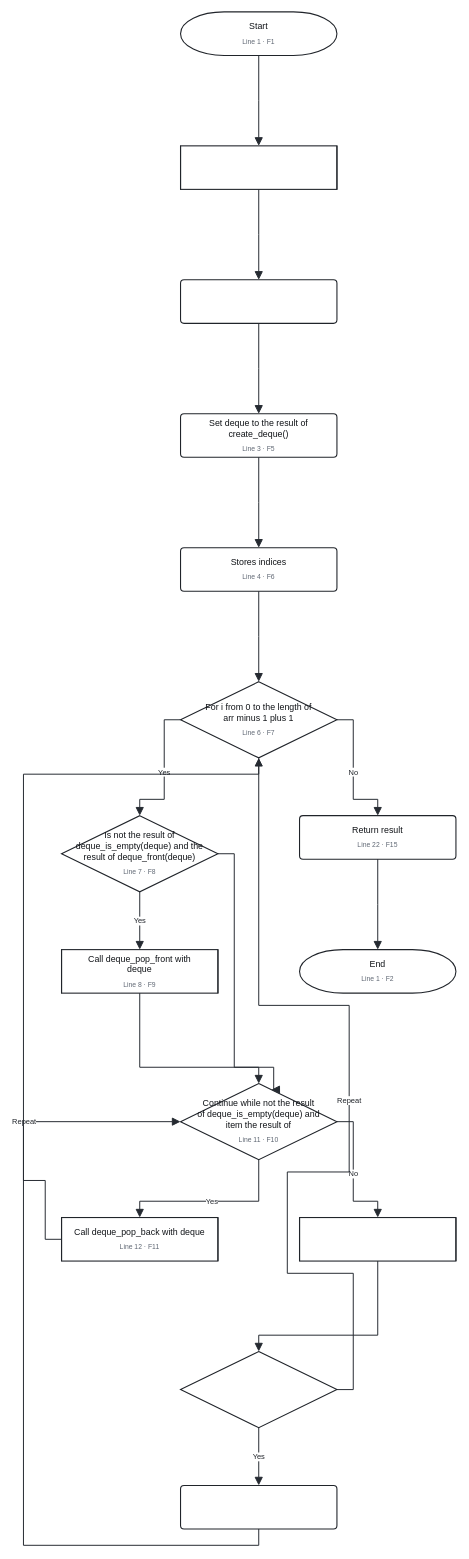
Some shapes in this 469 by 1559 pixel diagram are drawn without their labels. Each missing label, with the box of its shape:
Append item the result of deque_front(deque) of arr to result Line 18 · F14: (180, 1485, 337, 1529)
Call deque_push_back with deque, i Line 15 · F12: (299, 1217, 456, 1261)
I is greater than or equal to k minus 1? Line 17 · F13: (180, 1351, 337, 1428)
Run function SlidingWindowMaximum with arr, k Line 1 · F3: (180, 145, 337, 190)
Set result to an empty list Line 2 · F4: (180, 279, 337, 324)
